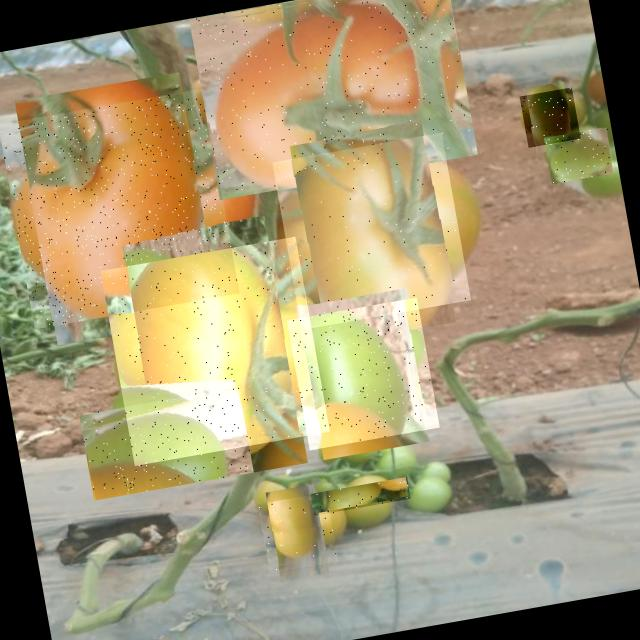Ripe Tomato: (0, 88, 239, 329), (188, 0, 477, 199)
Unripe Tomato: (100, 236, 329, 465), (272, 132, 471, 329), (286, 297, 439, 450), (79, 386, 254, 500), (256, 492, 338, 573), (310, 477, 410, 518), (544, 126, 614, 184), (519, 87, 580, 147)
